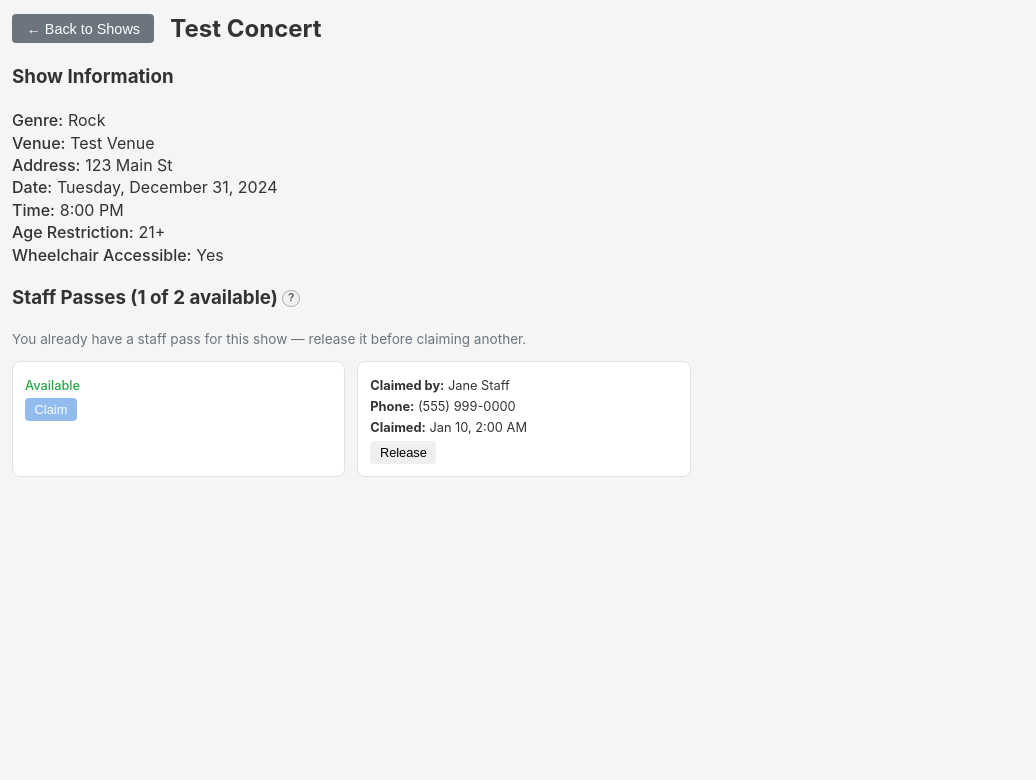
Test: Staff ShowDetail › Release Pass › should show success message after release
Step 1. Click the button "Release" → (403, 453), box [370,441,436,464]
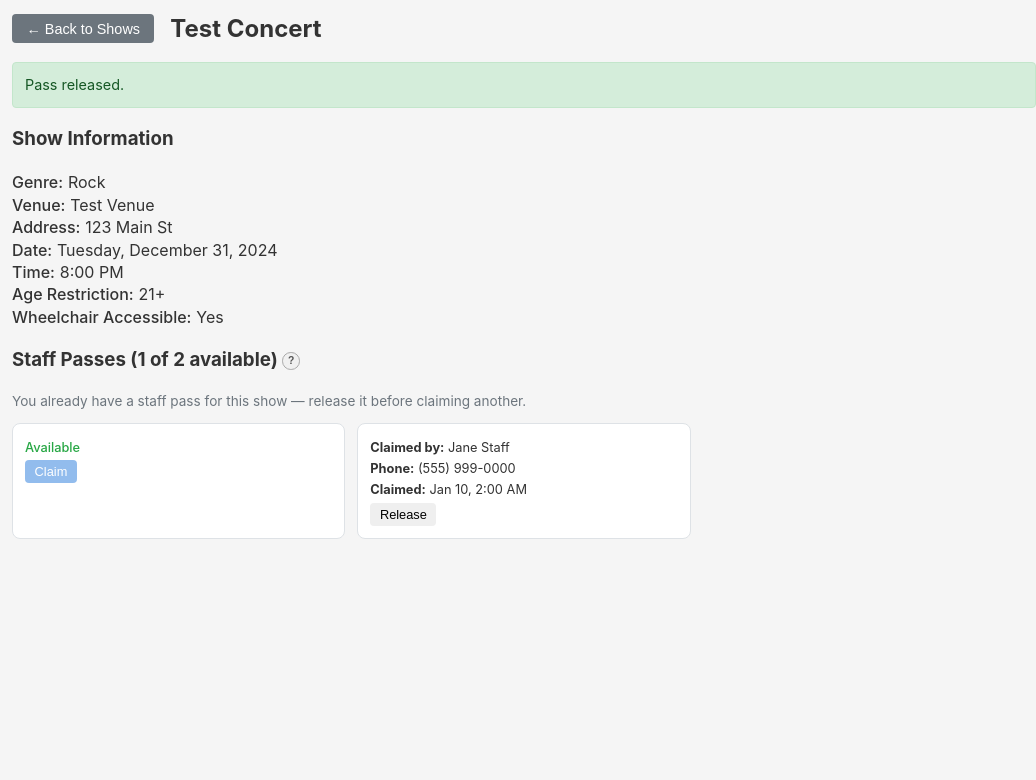
Check: the text "Pass released." is shown, box [12,62,1035,108]
